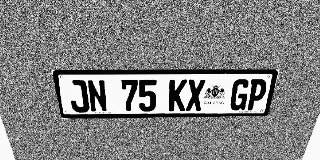5: (139, 80, 157, 112)
7: (120, 80, 139, 112)
G: (229, 79, 251, 110)
J: (67, 80, 90, 112)
K: (168, 79, 187, 111)
N: (86, 80, 108, 112)
P: (245, 79, 268, 110)
X: (186, 79, 205, 111)
